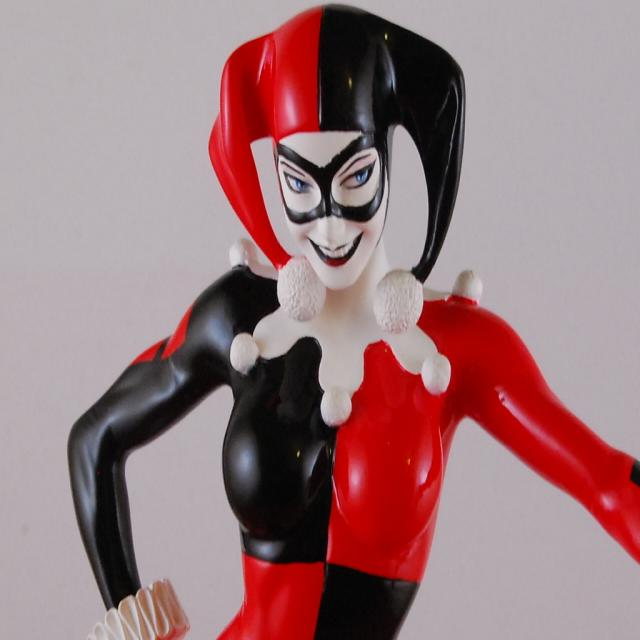Toy: (67, 3, 640, 640)
